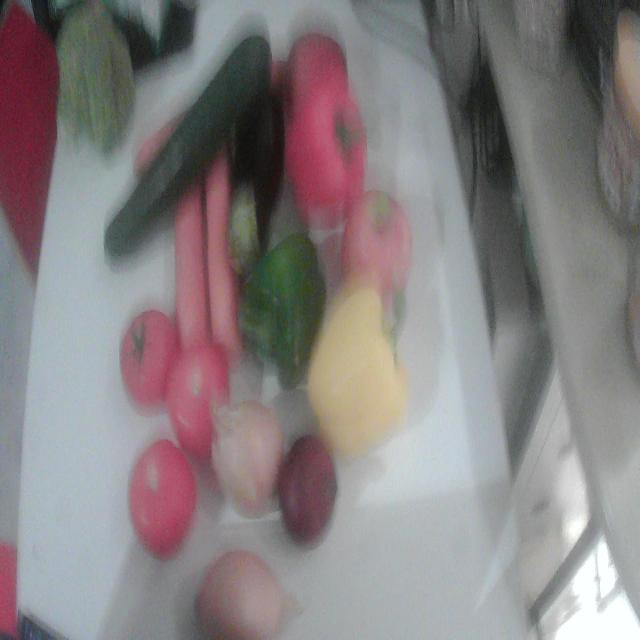Apple: (342, 192, 412, 306)
Bell Pepper: (307, 280, 408, 456), (239, 232, 327, 388), (286, 76, 366, 229)
Broccoli: (56, 0, 135, 153)
Carrot: (201, 156, 239, 356), (175, 185, 208, 346)
Courgette: (104, 35, 271, 266)
Eggplant: (228, 87, 284, 269)
Onion: (194, 550, 294, 639), (212, 401, 284, 516), (278, 434, 337, 545)
Tomato: (129, 439, 196, 560), (167, 344, 229, 457), (120, 310, 177, 410)
